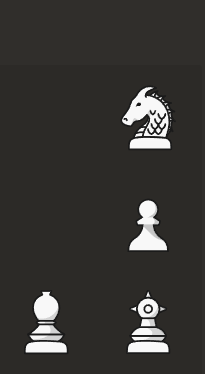F: (118, 285, 179, 361)
H: (113, 78, 184, 157)
P: (116, 190, 182, 263)
W: (12, 279, 81, 364)
